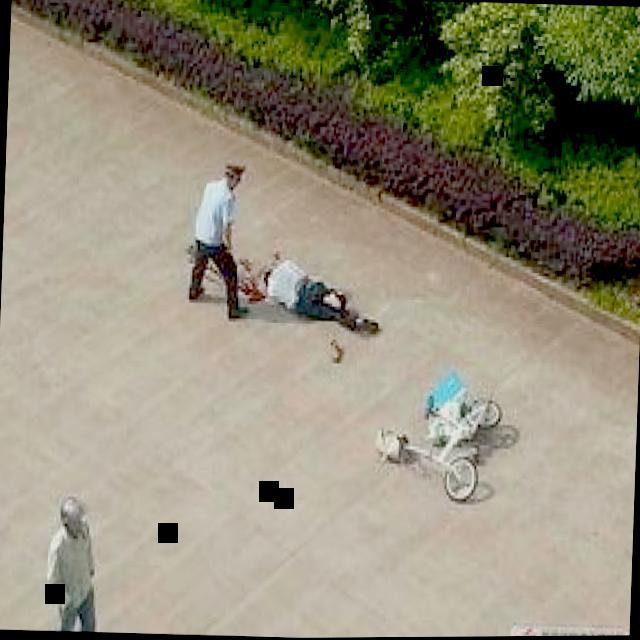Fall-Detected: (223, 219, 384, 345)
